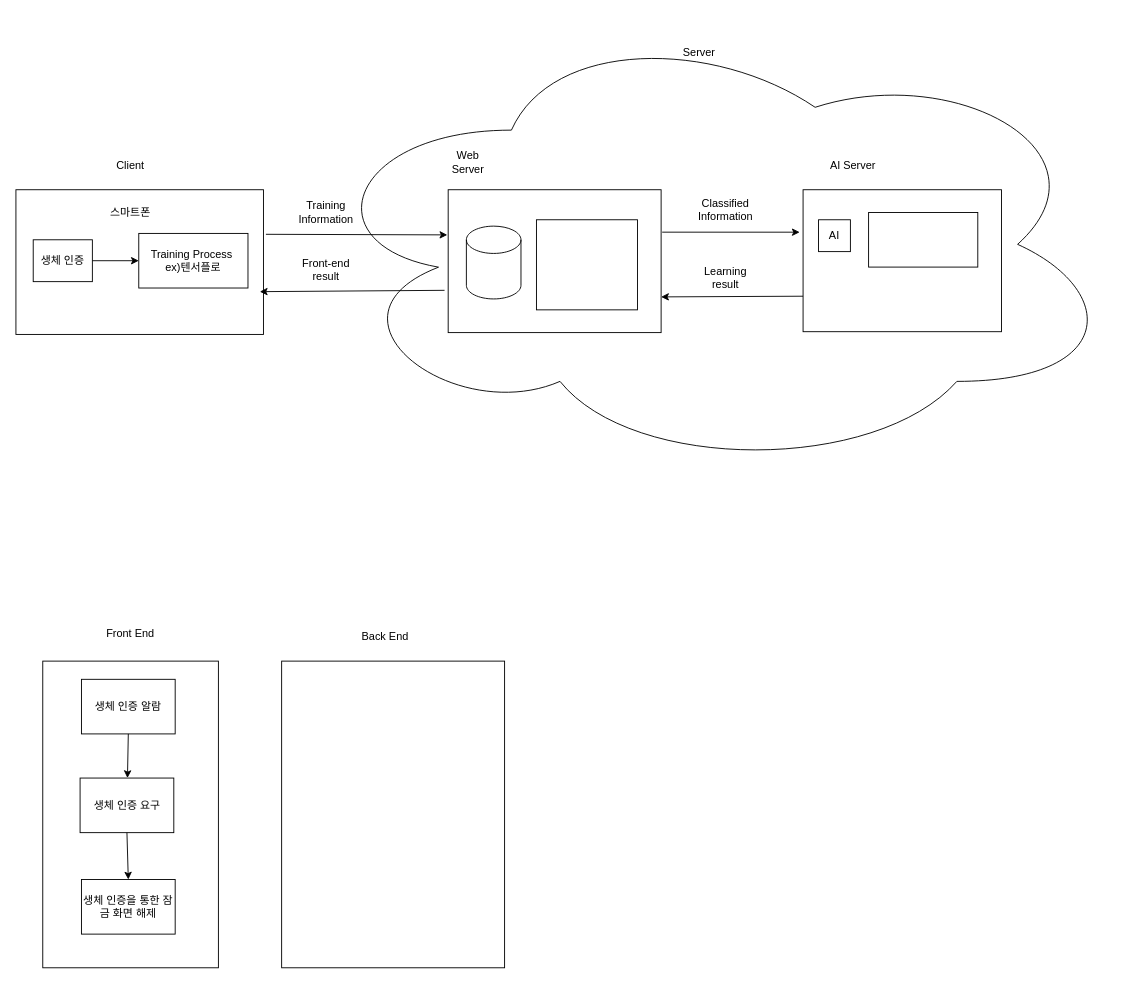
Image size: 1135x984. Some labels were removed from this diagram. The shapes that lost their labels are listed below. From the top down, each one's box as (x1, y1, x2, y2) in pixels, then its label:
(868, 212, 978, 267): Learning Machine
(465, 225, 521, 299): DB
(536, 219, 637, 310): Analyzer
